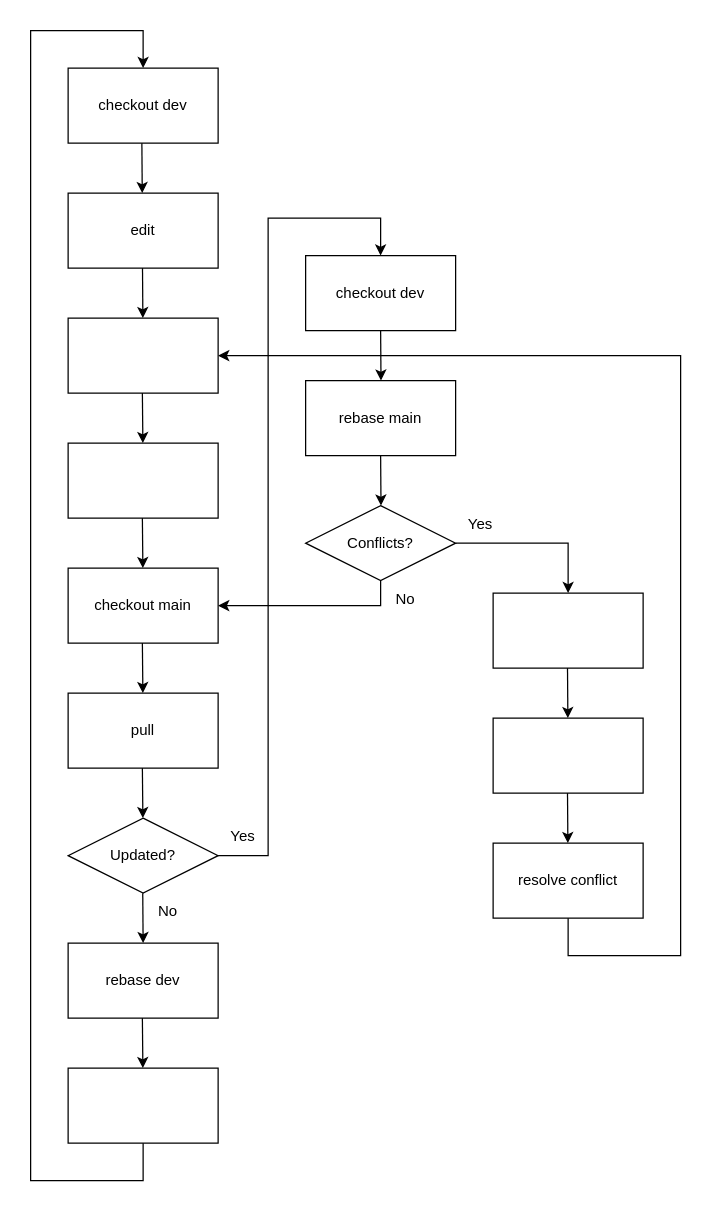
Image size: 713x1213. Some labels were removed from this diagram. Here are the shapes that lost their labels. From the top down, the box of each, then its label:
(67, 317, 218, 393): stage
(67, 442, 218, 518): commit
(492, 592, 643, 668): abort rebase
(492, 717, 643, 793): merge main
(67, 1067, 218, 1143): push
